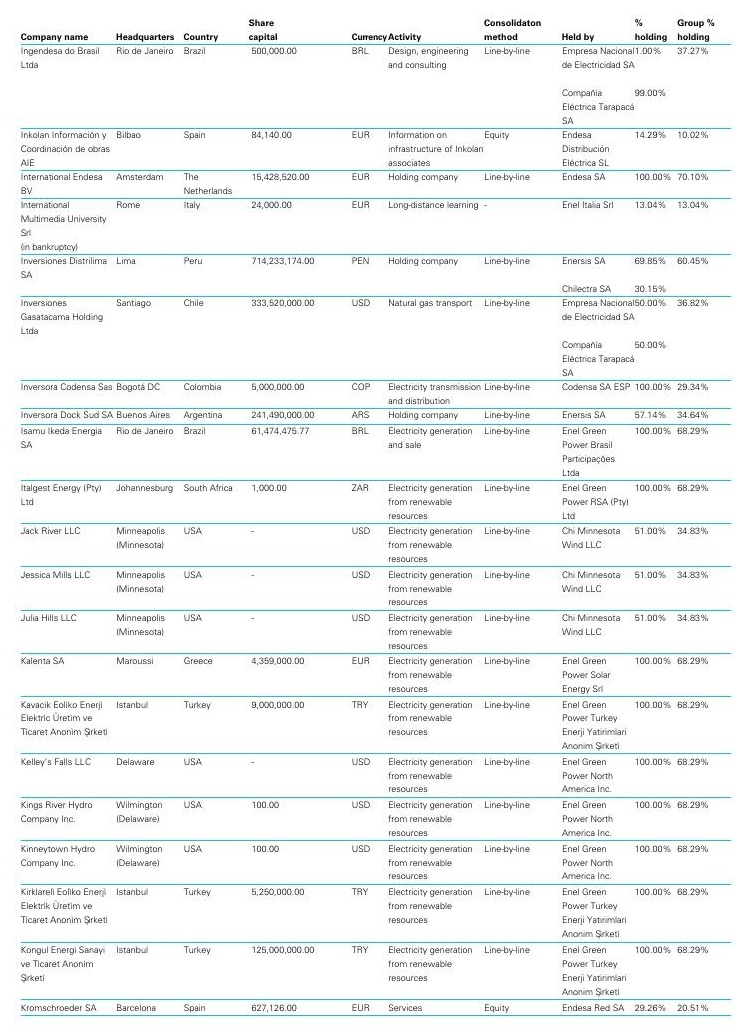table: (0, 0, 751, 1031)
